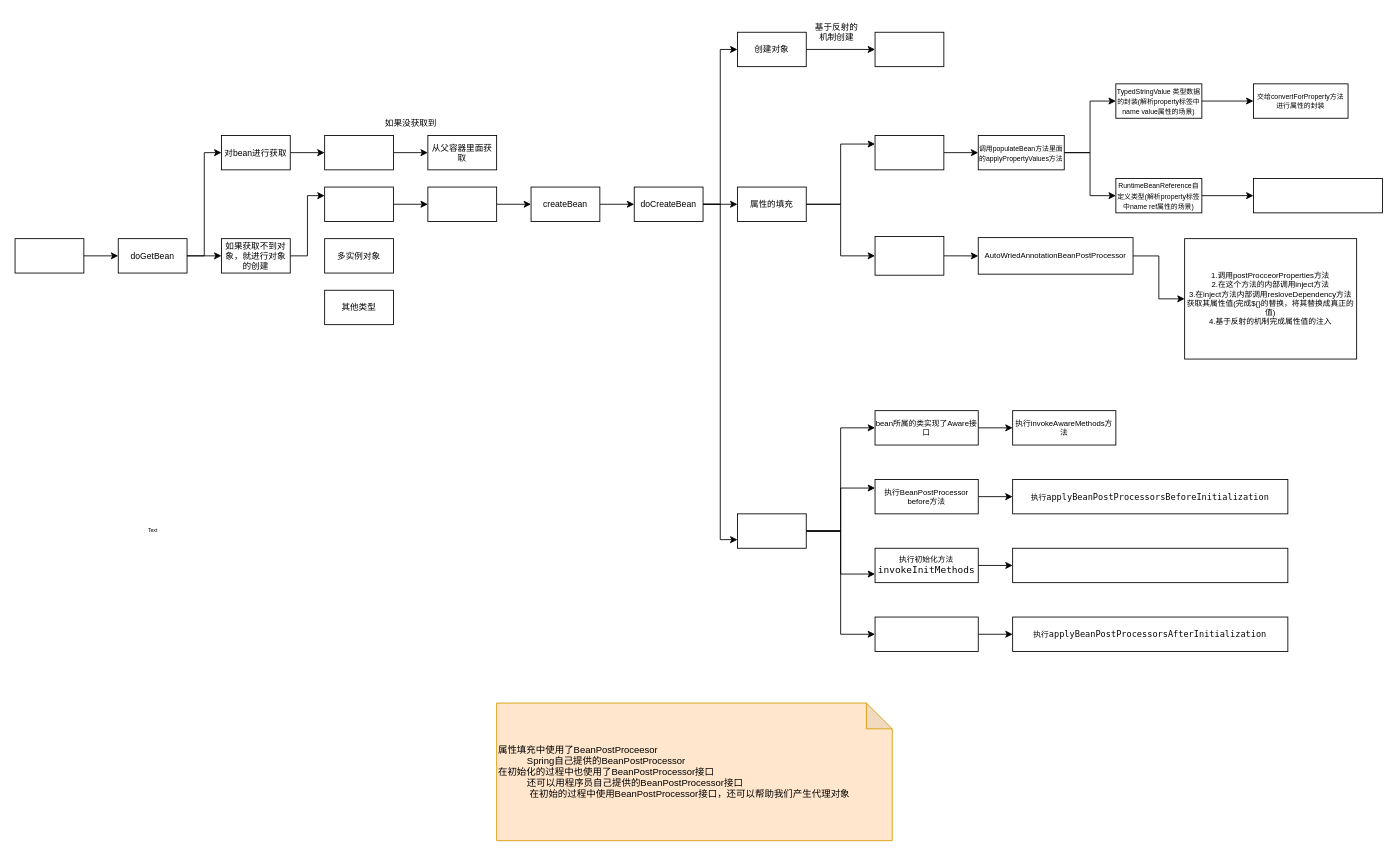
The diagram is 1398 pixels wide and 856 high, and some of its shapes have lost their labels. Here are the shapes that lost their labels. From the top down, the centre of each, then its label:
[909,49]: 创建对象(BeanWrapper对象)
[358,152]: getSingleton，从单例池中获取
[909,152]: bean标签set注入
[358,203]: 单实例对象
[462,203]: getSingleton
[1317,195]: 交给 resolveValueIfNecessary方法，获取bean
[49,255]: getBean
[909,255]: 注解形式的注入
[771,530]: 初始化操作
[1150,565]: 在bean标签中配置了init-method属性
[926,633]: 执行BeanPostProcessor bafter方法
